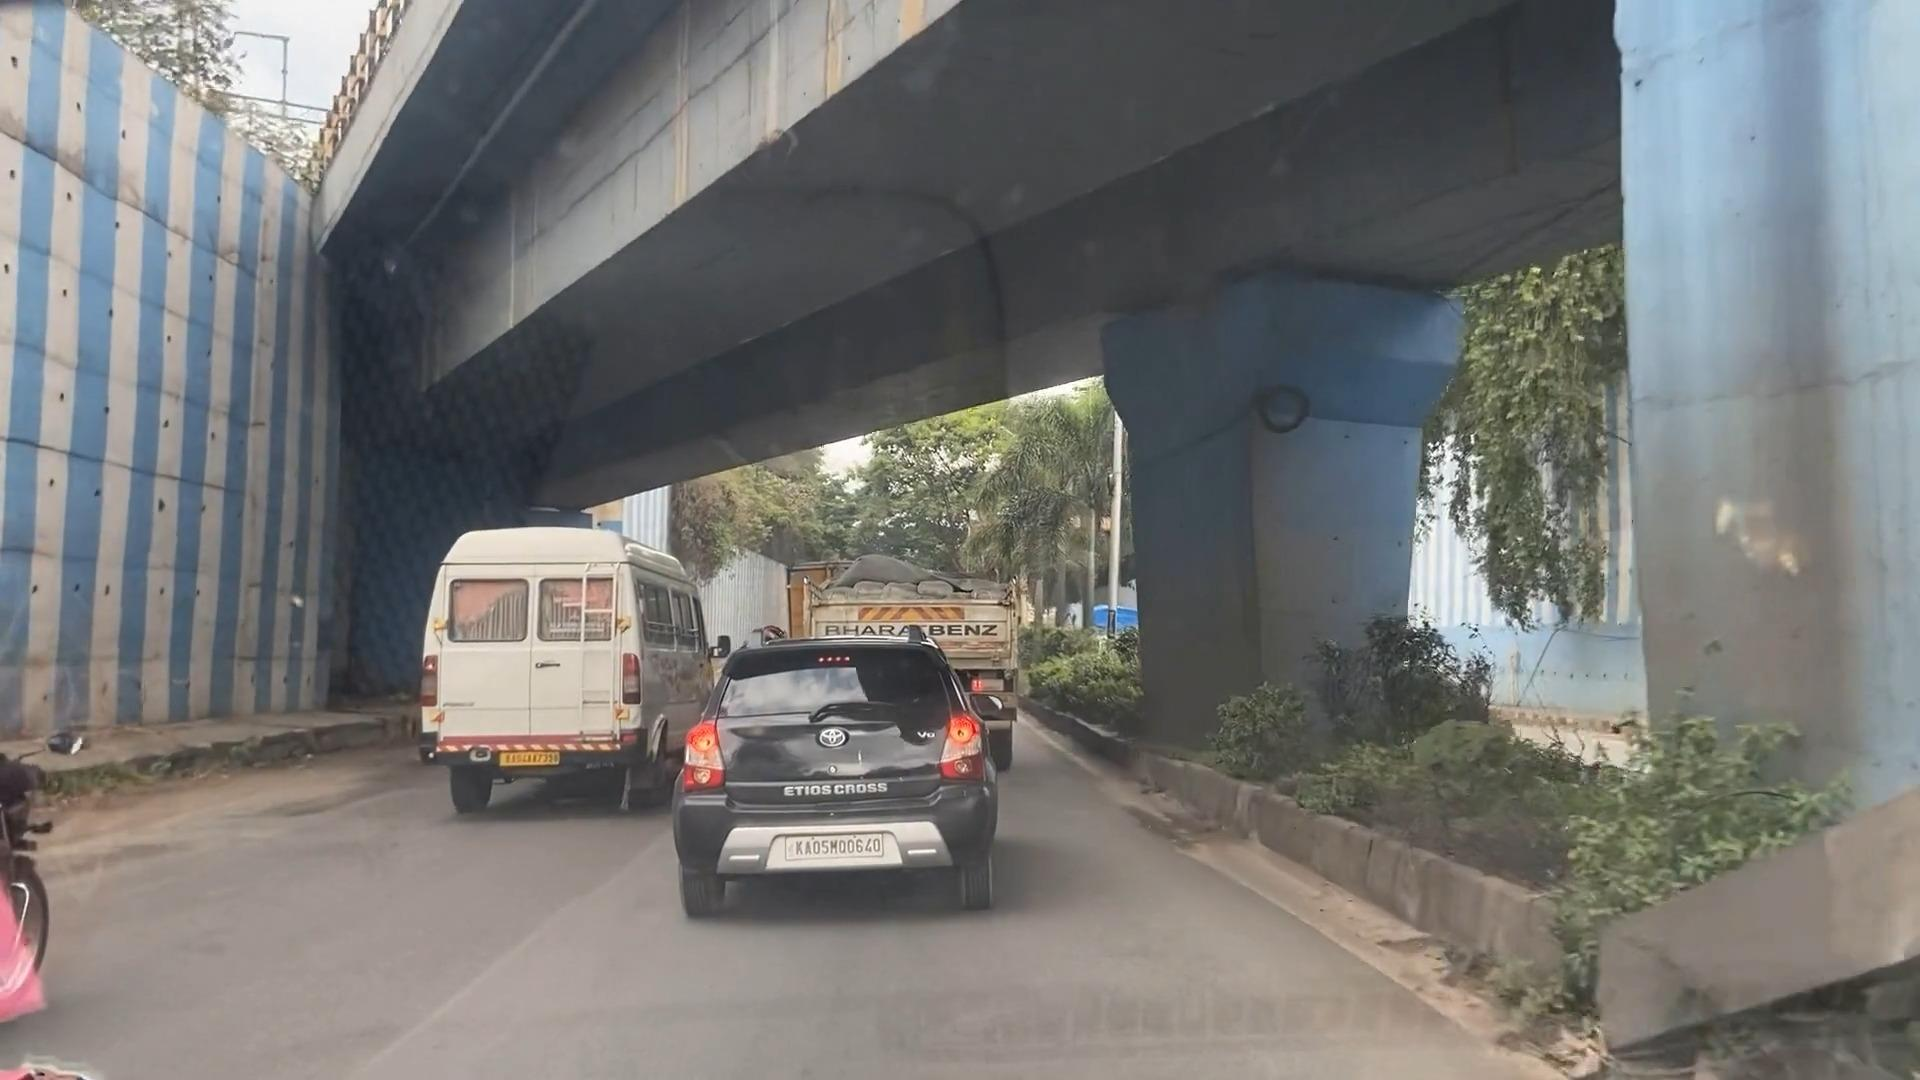HMV: (411, 518, 702, 820), (781, 556, 1038, 782)
LMV: (658, 620, 1005, 926), (0, 642, 128, 1031)
